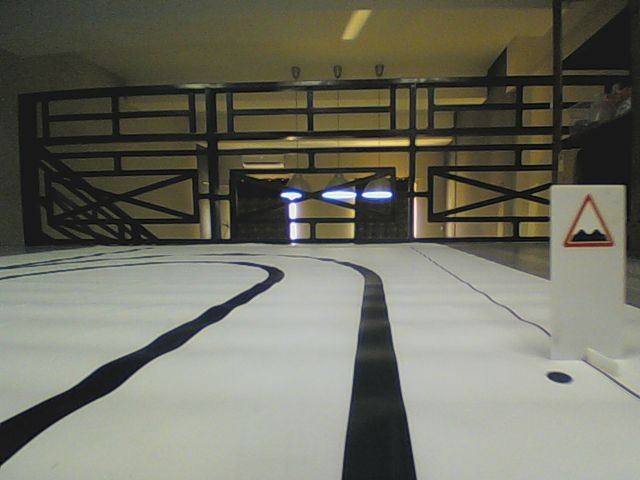Nerov: (562, 191, 617, 249)
